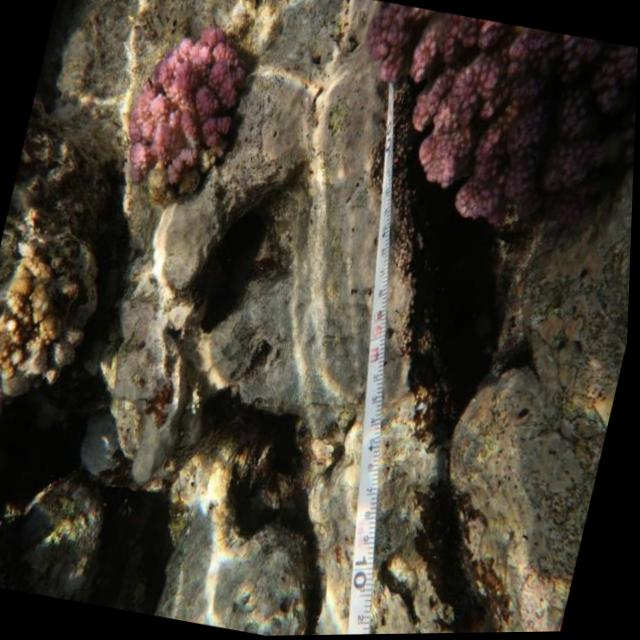Healthy Coral: (325, 0, 640, 249), (106, 16, 269, 200)
